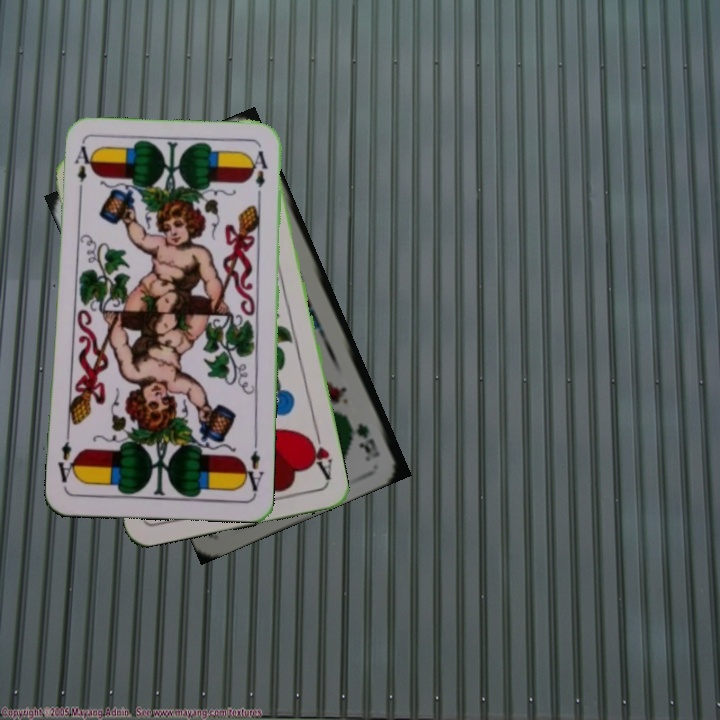EA: (238, 447, 266, 496), (71, 142, 90, 200)
GK: (353, 419, 382, 463)
HA: (303, 425, 335, 483)
